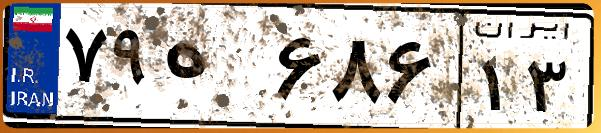1: (475, 38, 525, 113)
3: (525, 38, 570, 115)
6: (270, 28, 330, 110), (385, 28, 445, 110)
7: (57, 26, 110, 100)
8: (330, 28, 385, 110)
9: (110, 28, 158, 98)
ه: (158, 20, 270, 120)
